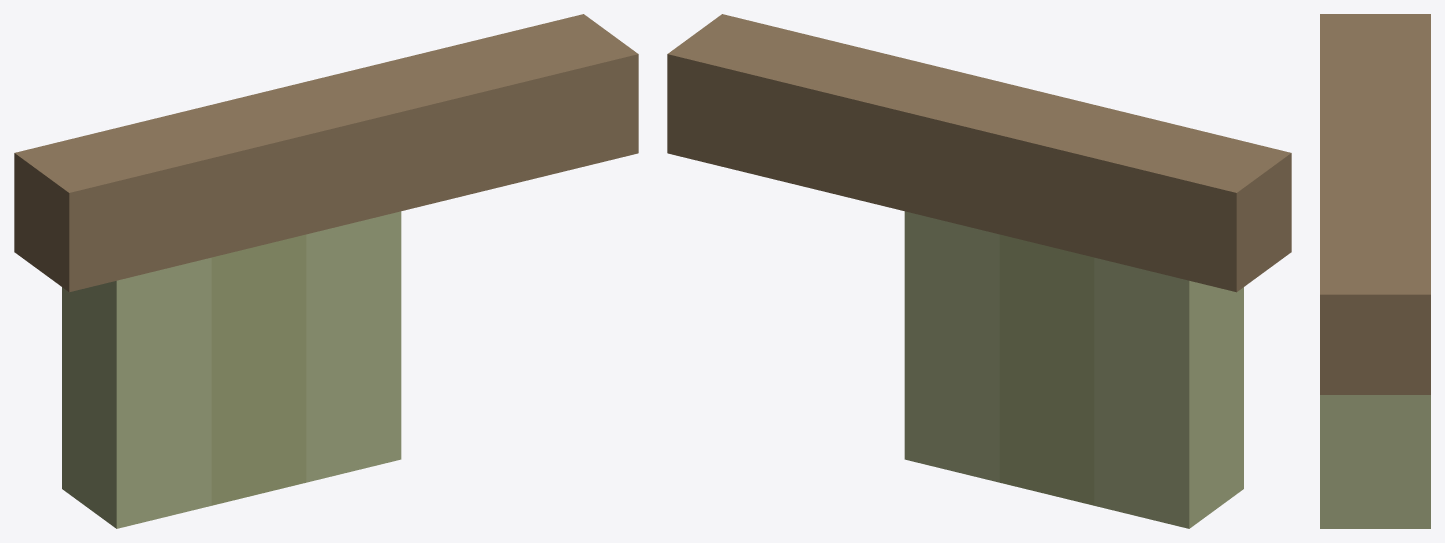
File: hierbas_secas_01.glb
The picture shows the model from 3 angles, left to right: view 1: azimuth 30°, elevation 25°; view 2: azimuth 150°, elevation 25°; view 3: azimuth 270°, elevation 25°; orthographic projection.
Parts seen in each view (by area): view 1: hierbas_secas; view 2: hierbas_secas; view 3: hierbas_secas.
Part boxes in pixels (<box>): hierbas_secas: <box>14,14,638,528</box>; hierbas_secas: <box>667,14,1291,528</box>; hierbas_secas: <box>1320,14,1430,528</box>.
Bounding box in the file's own units: 0.9231 × 0.5385 × 0.1538.
